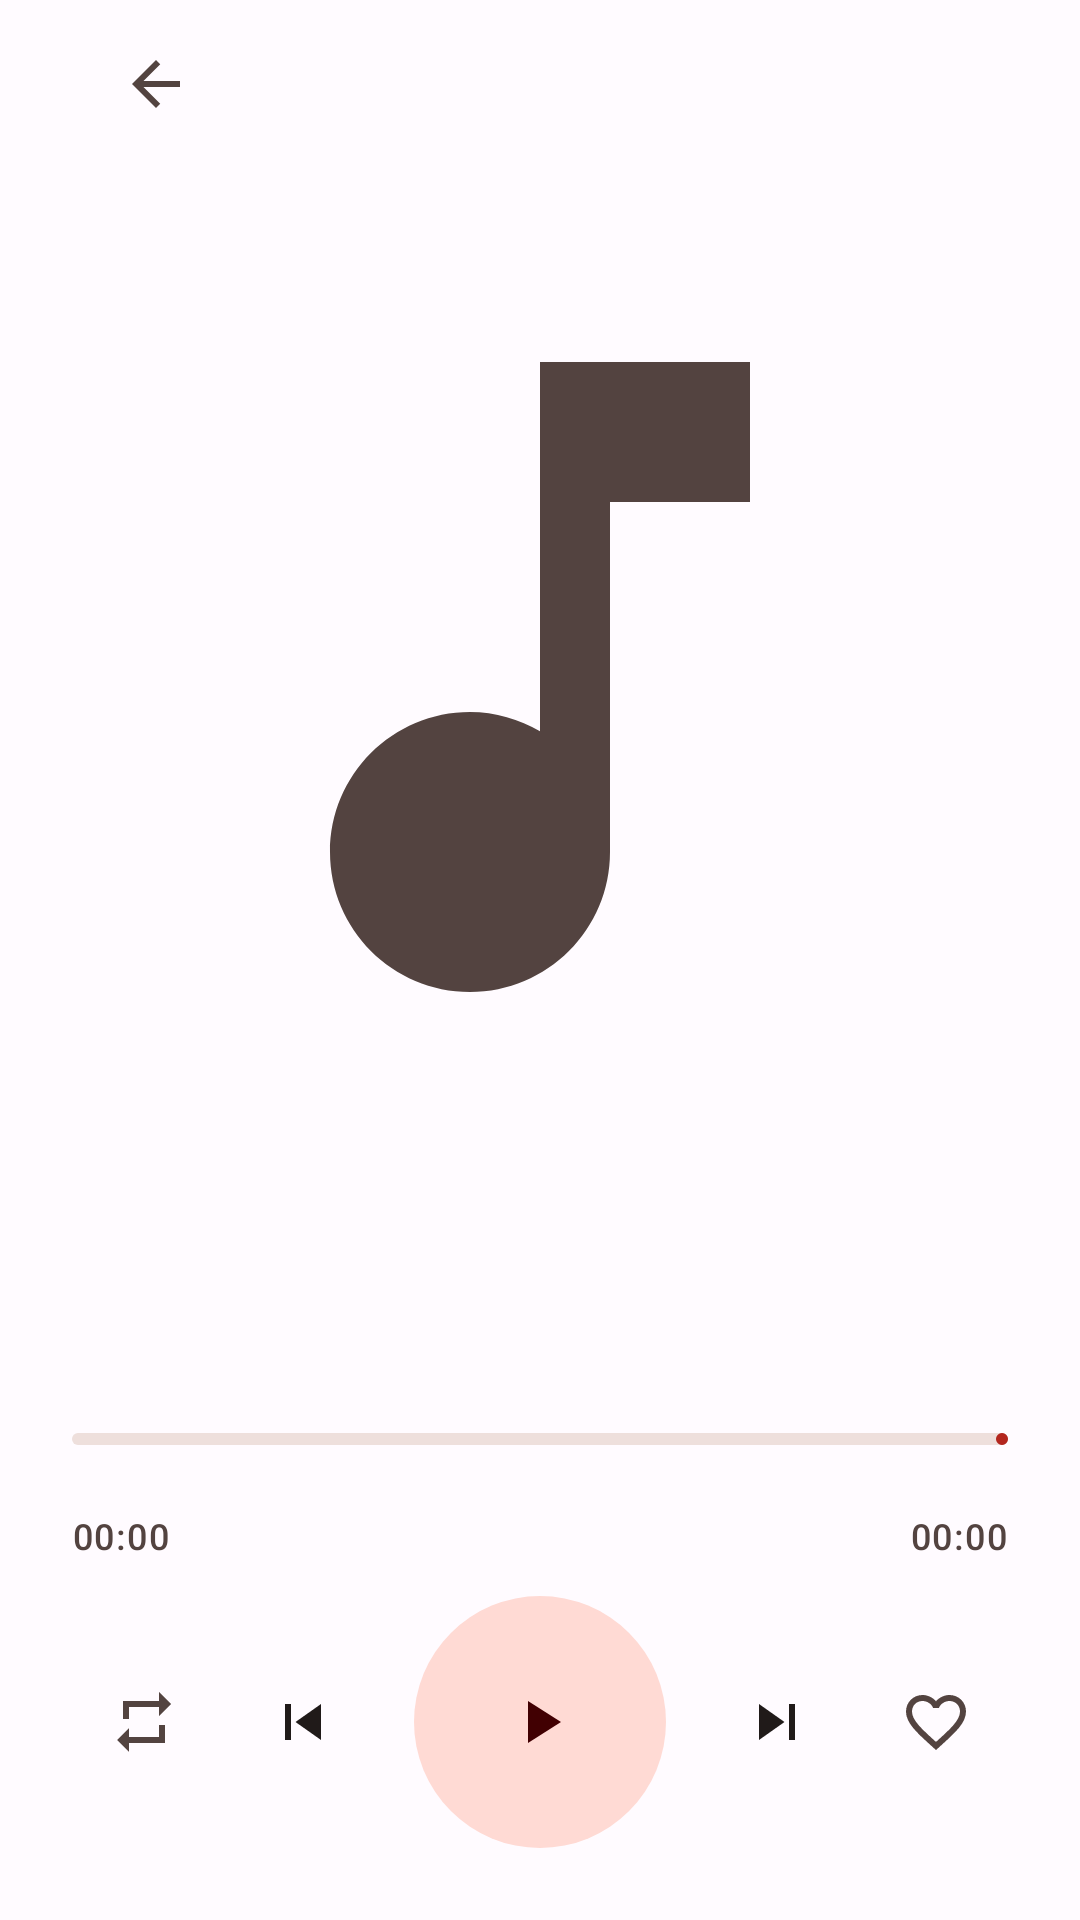

Icons on this 1080×1920 Android screen, each with its box as (x1=x1, y1=y1, x2=x2, y2=y2):
back: (x1=132, y1=60, x2=180, y2=108)
heart: (x1=906, y1=1695, x2=966, y2=1750)
next: (x1=759, y1=1704, x2=795, y2=1740)
play: (x1=414, y1=1596, x2=666, y2=1848)
prev: (x1=285, y1=1704, x2=321, y2=1740)
repeat: (x1=117, y1=1692, x2=171, y2=1752)
